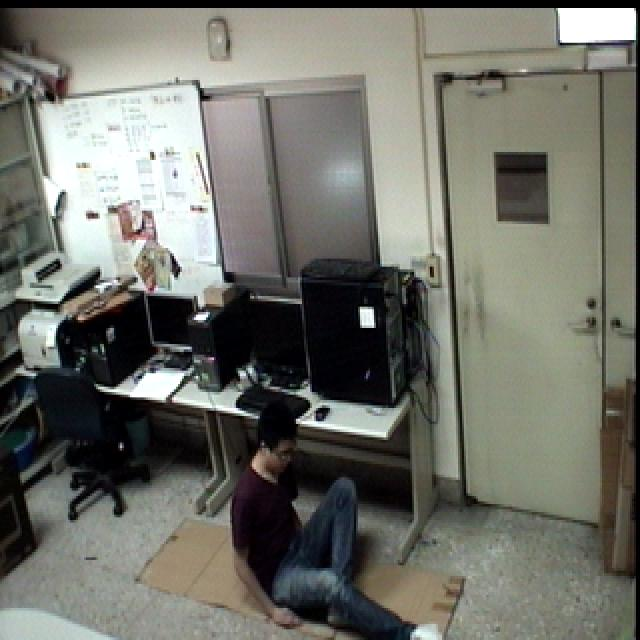sit: (224, 398, 451, 640)
